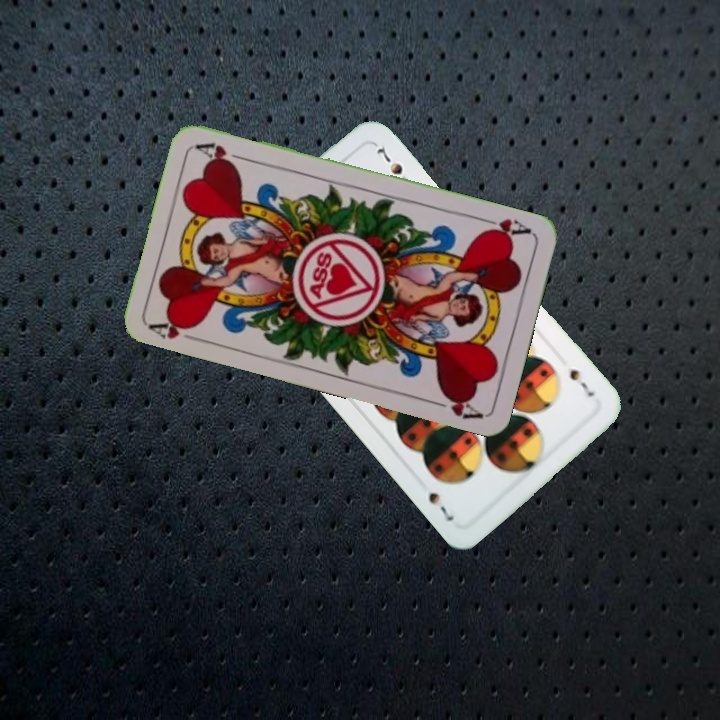HA: (146, 313, 204, 345), (476, 213, 534, 242)
S7: (565, 365, 596, 399)
